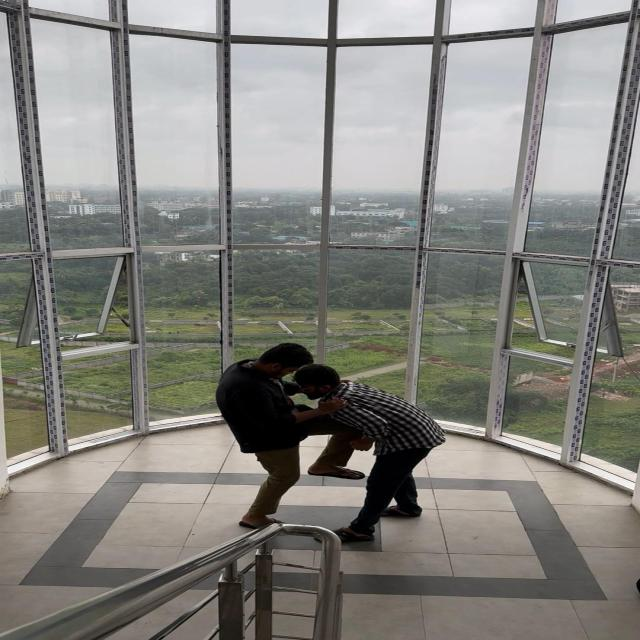fight: (193, 328, 477, 555)
